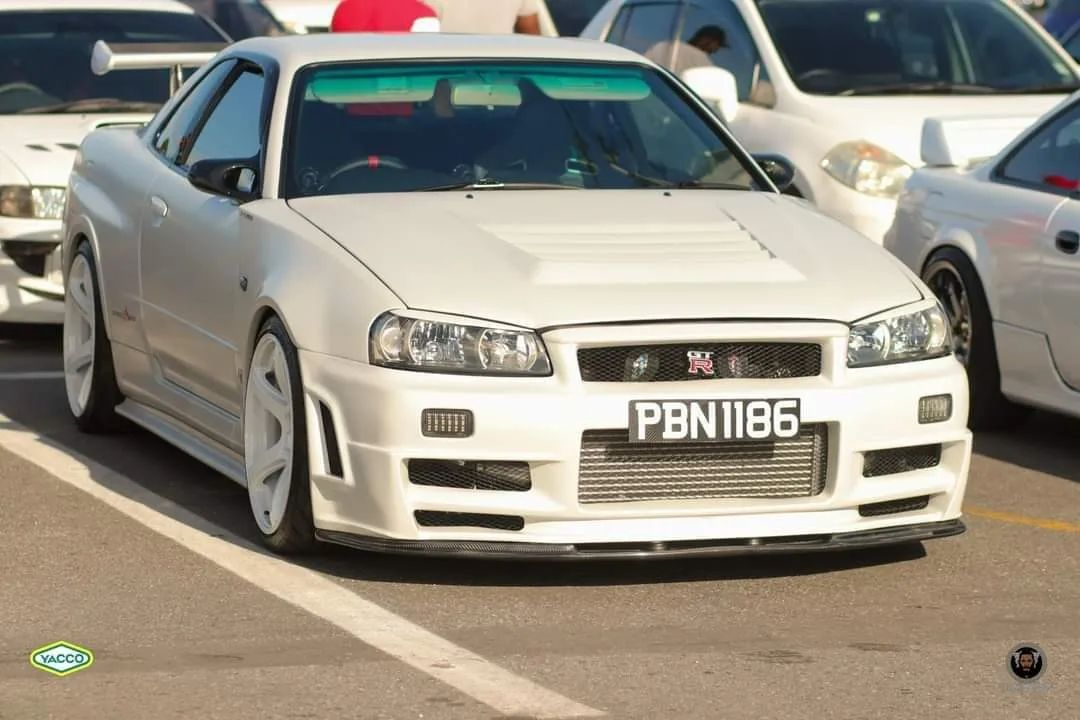License-Plate: (629, 401, 801, 443)
